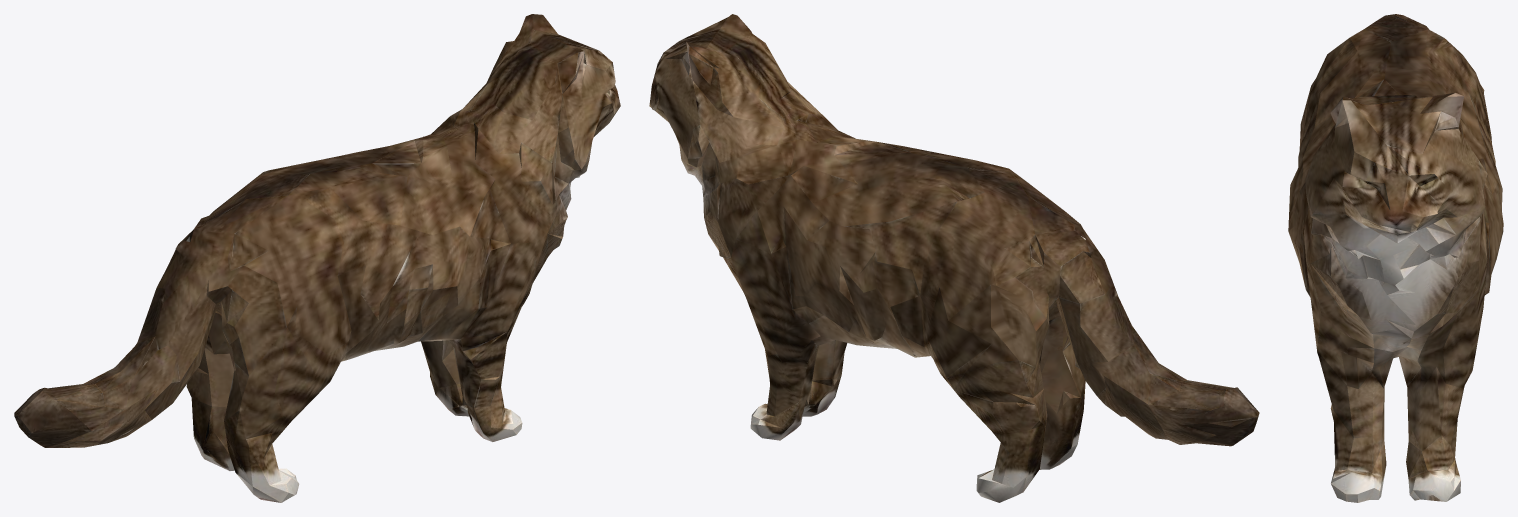
The model's file is KPURRY-lo.glb.
3 renders of one model, left to right at view 1: azimuth 30°, elevation 25°; view 2: azimuth 150°, elevation 25°; view 3: azimuth 270°, elevation 25°, orthographic. The views are drawn at different scales.
Visible parts, largest first — view 1: output_unwrapped; view 2: output_unwrapped; view 3: output_unwrapped.
Boxes of the visible parts, left/top/right/bottom form: output_unwrapped: left=14, top=14, right=620, bottom=502; output_unwrapped: left=649, top=14, right=1259, bottom=502; output_unwrapped: left=1288, top=14, right=1503, bottom=502.
Bounding box in the file's own units: 1.68 × 1 × 0.4347.
1 material, 1 textured.
